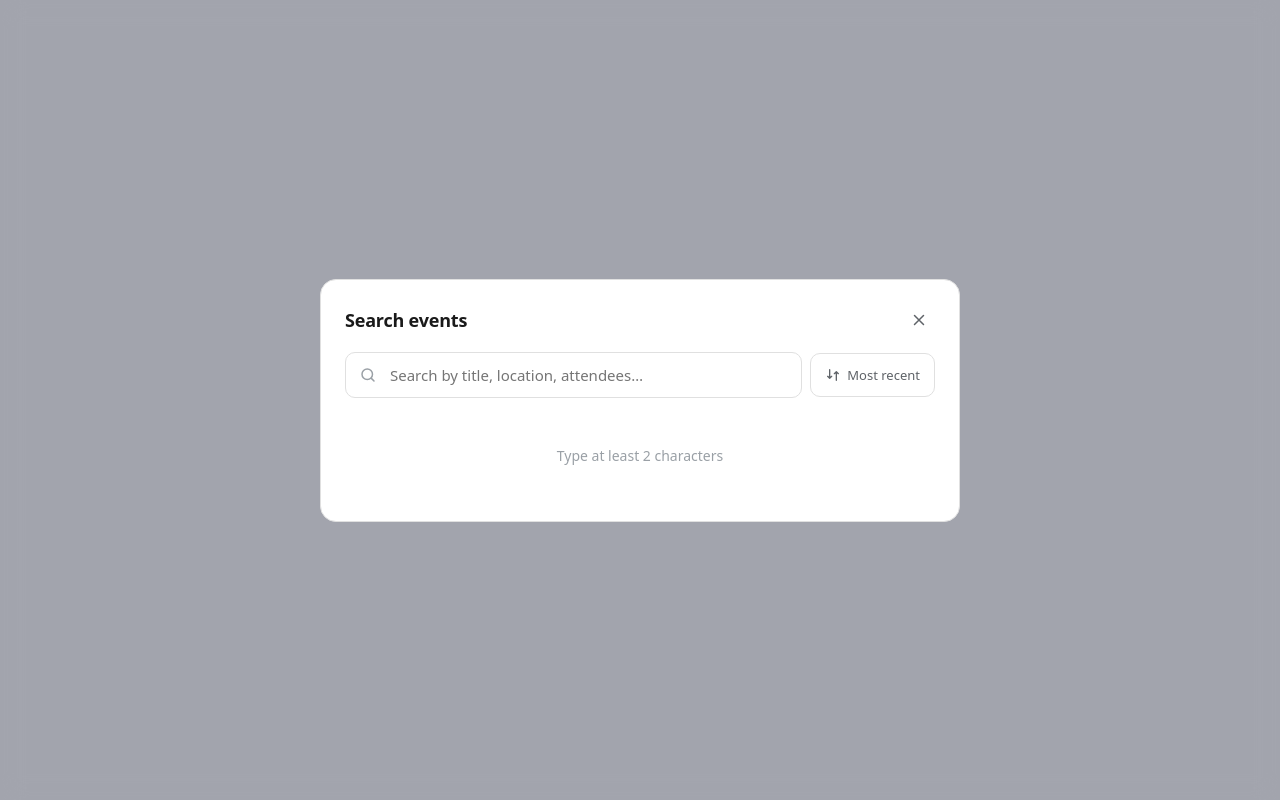
Test case: eventSearchDialog keyboard nav › dismisses the popup when clicking outside without changing sort
Click the button with aria-label "sort": [873, 374] box [810, 352, 935, 396]
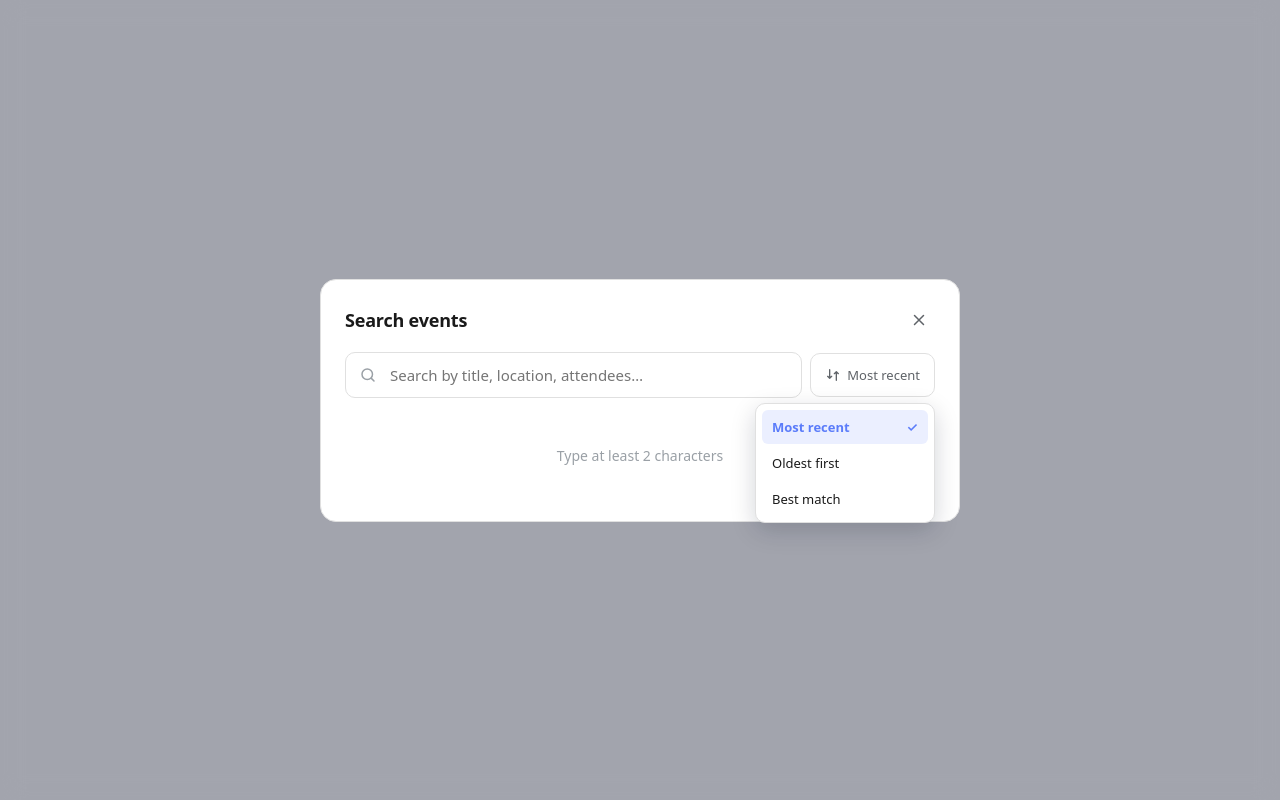
Press the mouse on the dropdown: [574, 374] box [345, 352, 802, 398]
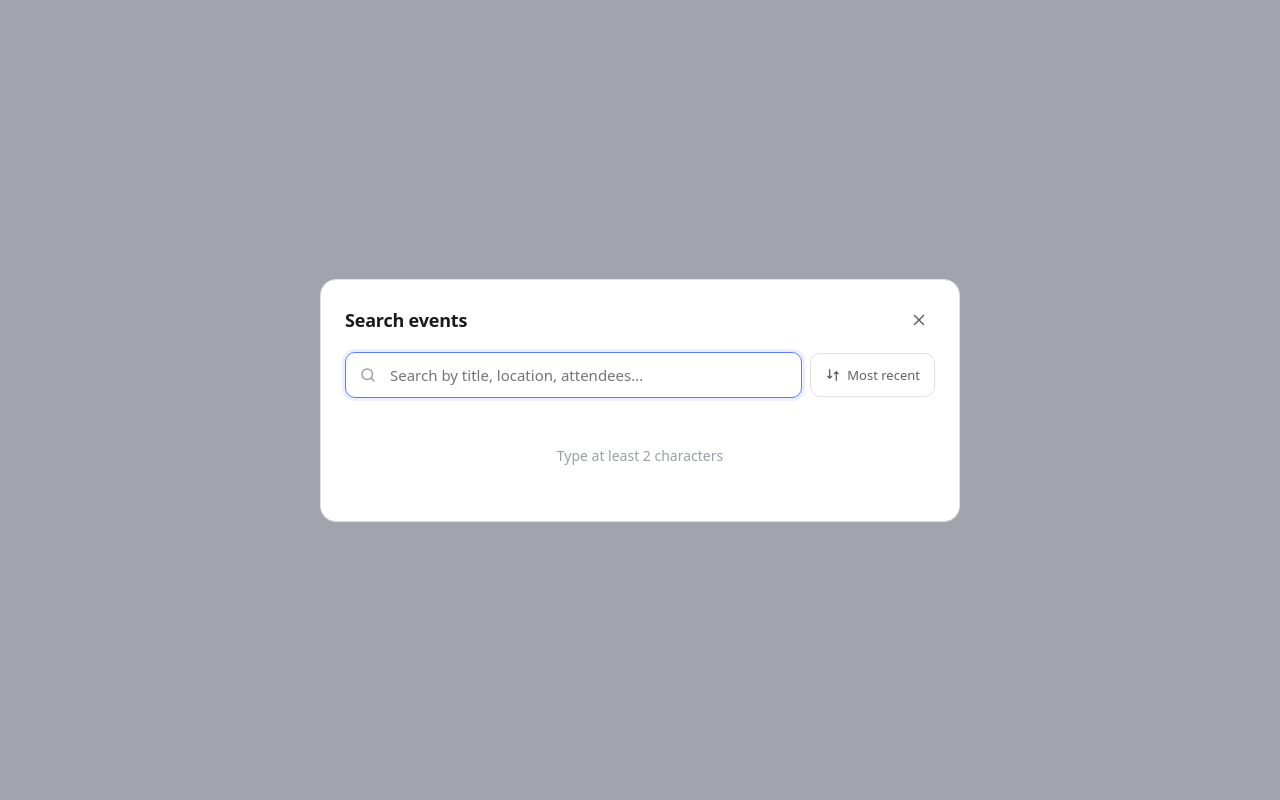
Expected: the button with aria-label "sort" reads "Most recent", [810, 352, 935, 396]
Expected: the menu is gone
